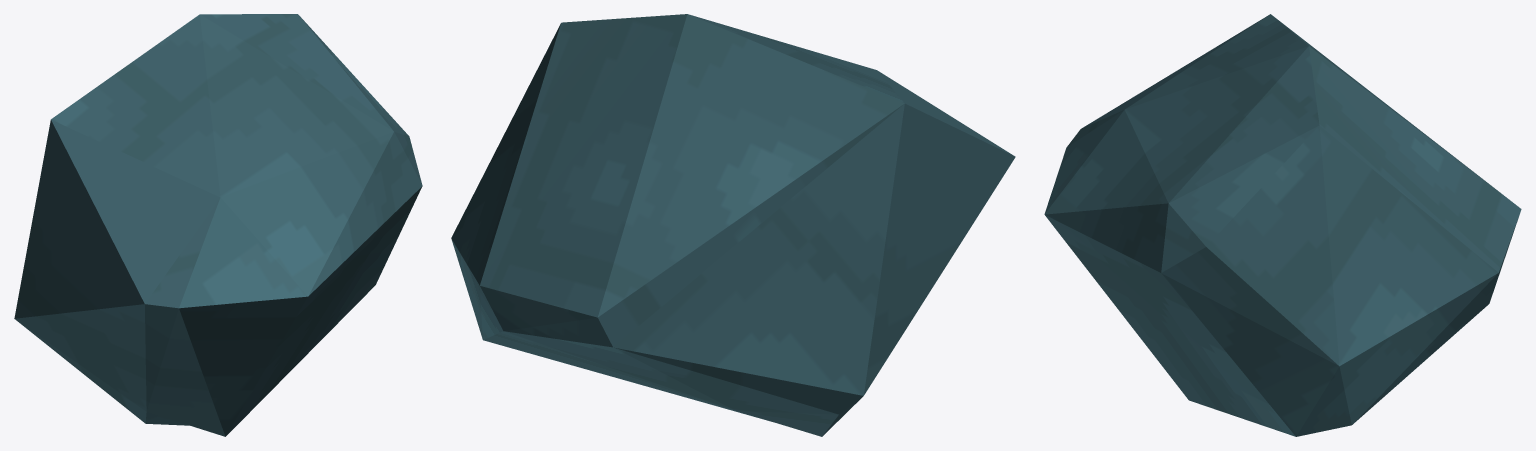
The model's file is CrashRock_C07_05.fbx.
3 views of the same model, side by side, from view 1: azimuth 30°, elevation 25°; view 2: azimuth 150°, elevation 25°; view 3: azimuth 270°, elevation 25° (orthographic). The views are drawn at different scales.
Parts seen in each view (by area): view 1: CrashRock_C07; view 2: CrashRock_C07; view 3: CrashRock_C07.
Boxes of the visible parts, bbox=[...] form: CrashRock_C07: bbox=[14, 14, 422, 436]; CrashRock_C07: bbox=[451, 14, 1015, 436]; CrashRock_C07: bbox=[1044, 14, 1521, 436].
Size of the model in its own units: 0.925 by 0.9228 by 1.07.
1 material, 1 textured.
